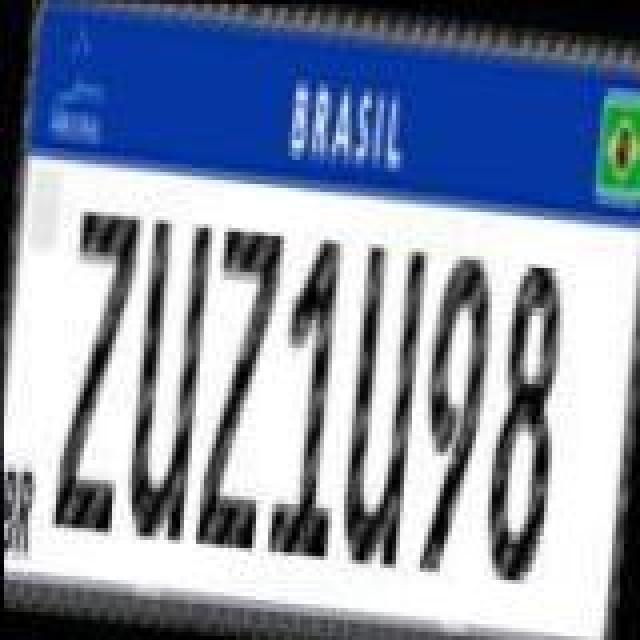1: (264, 228, 364, 564)
8: (474, 254, 570, 590)
9: (402, 246, 498, 582)
U: (118, 210, 214, 546), (330, 238, 426, 570)
Z: (50, 206, 146, 542), (192, 224, 284, 556)
